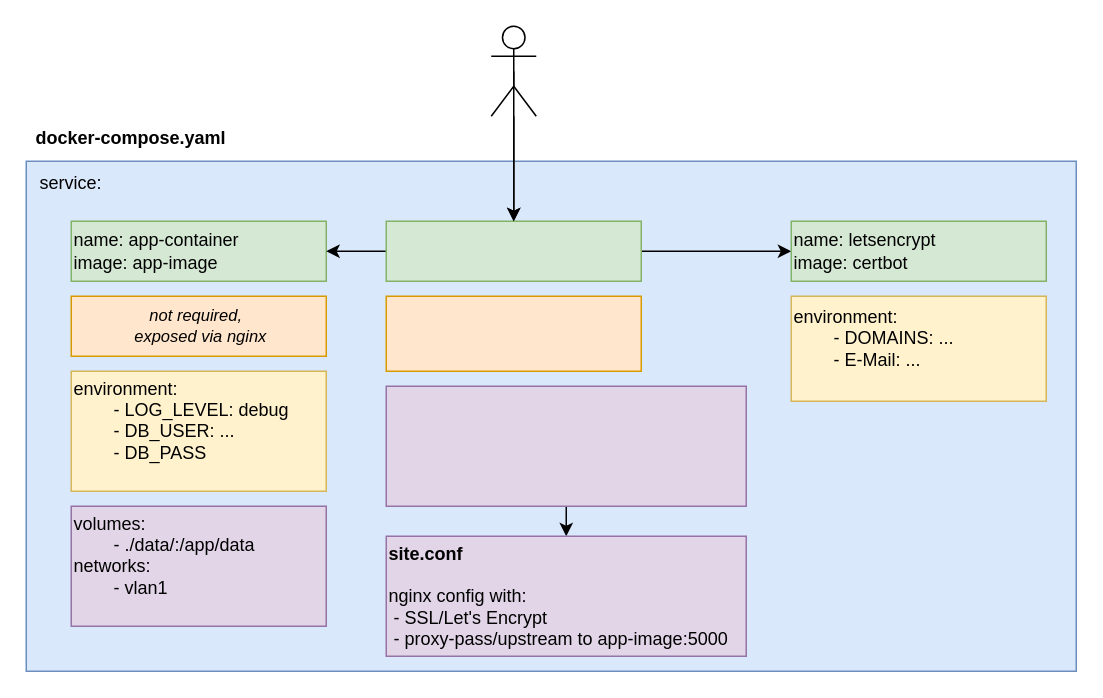
This 1103x698 diagram has some shape labels left out. The shapes that lost their labels are listed below. From the top down, each one's box as (x1, y1, x2, y2) in pixels, then its label:
(385, 220, 641, 281): name: reverse-proxy image: nginx
(385, 295, 641, 371): ports: - 443:443 - 80: 80
(385, 385, 746, 506): volumes: - ./site.conf:/etc/nginx/v.hosts/site.conf networks: - vlan1
